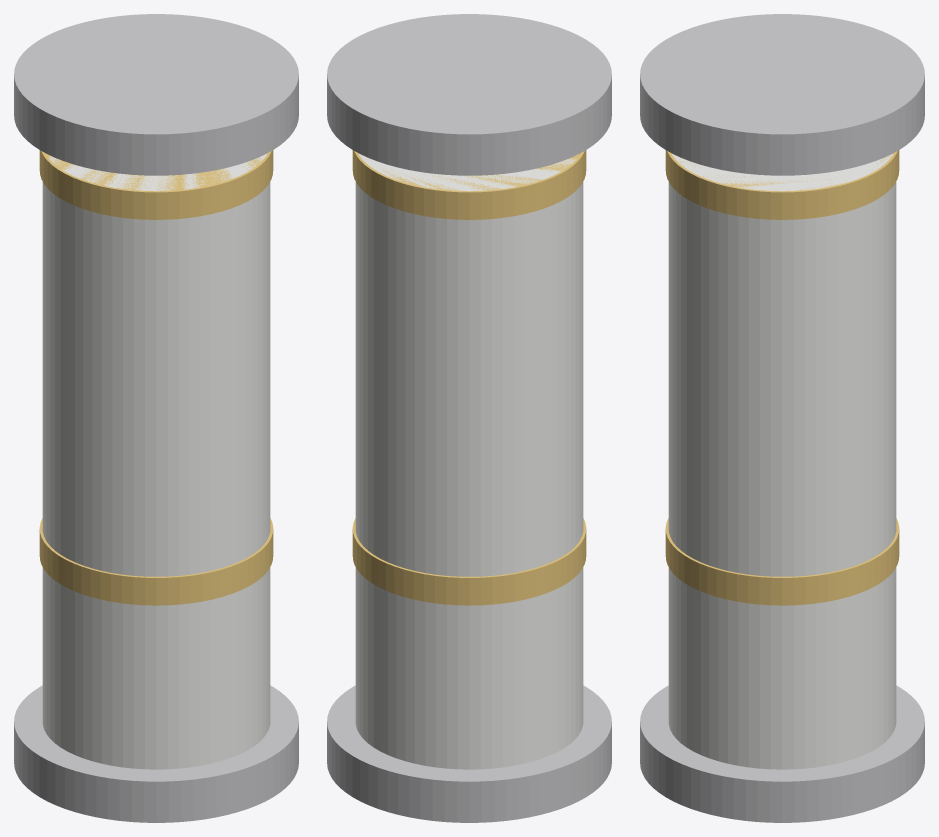
Rendered from robo02_piston_m.glb.
3 renders of one model, left to right at view 1: azimuth 30°, elevation 25°; view 2: azimuth 150°, elevation 25°; view 3: azimuth 270°, elevation 25°, orthographic.
Visible parts, largest first — view 1: barrel, rod_plate, base_plate, barrel_bands; view 2: barrel, rod_plate, base_plate, barrel_bands; view 3: barrel, rod_plate, base_plate, barrel_bands.
Boxes of the visible parts, x1,y1,x2,y2 form: barrel: [42, 153, 270, 769]; rod_plate: [14, 14, 298, 175]; base_plate: [14, 685, 298, 822]; barrel_bands: [39, 150, 273, 605]; barrel: [355, 153, 583, 769]; rod_plate: [327, 14, 611, 175]; base_plate: [327, 685, 611, 822]; barrel_bands: [352, 150, 586, 605]; barrel: [668, 153, 896, 769]; rod_plate: [640, 14, 924, 175]; base_plate: [640, 685, 924, 822]; barrel_bands: [665, 150, 899, 605].
Size of the model in its own units: 0.6 by 1.6 by 0.6.
